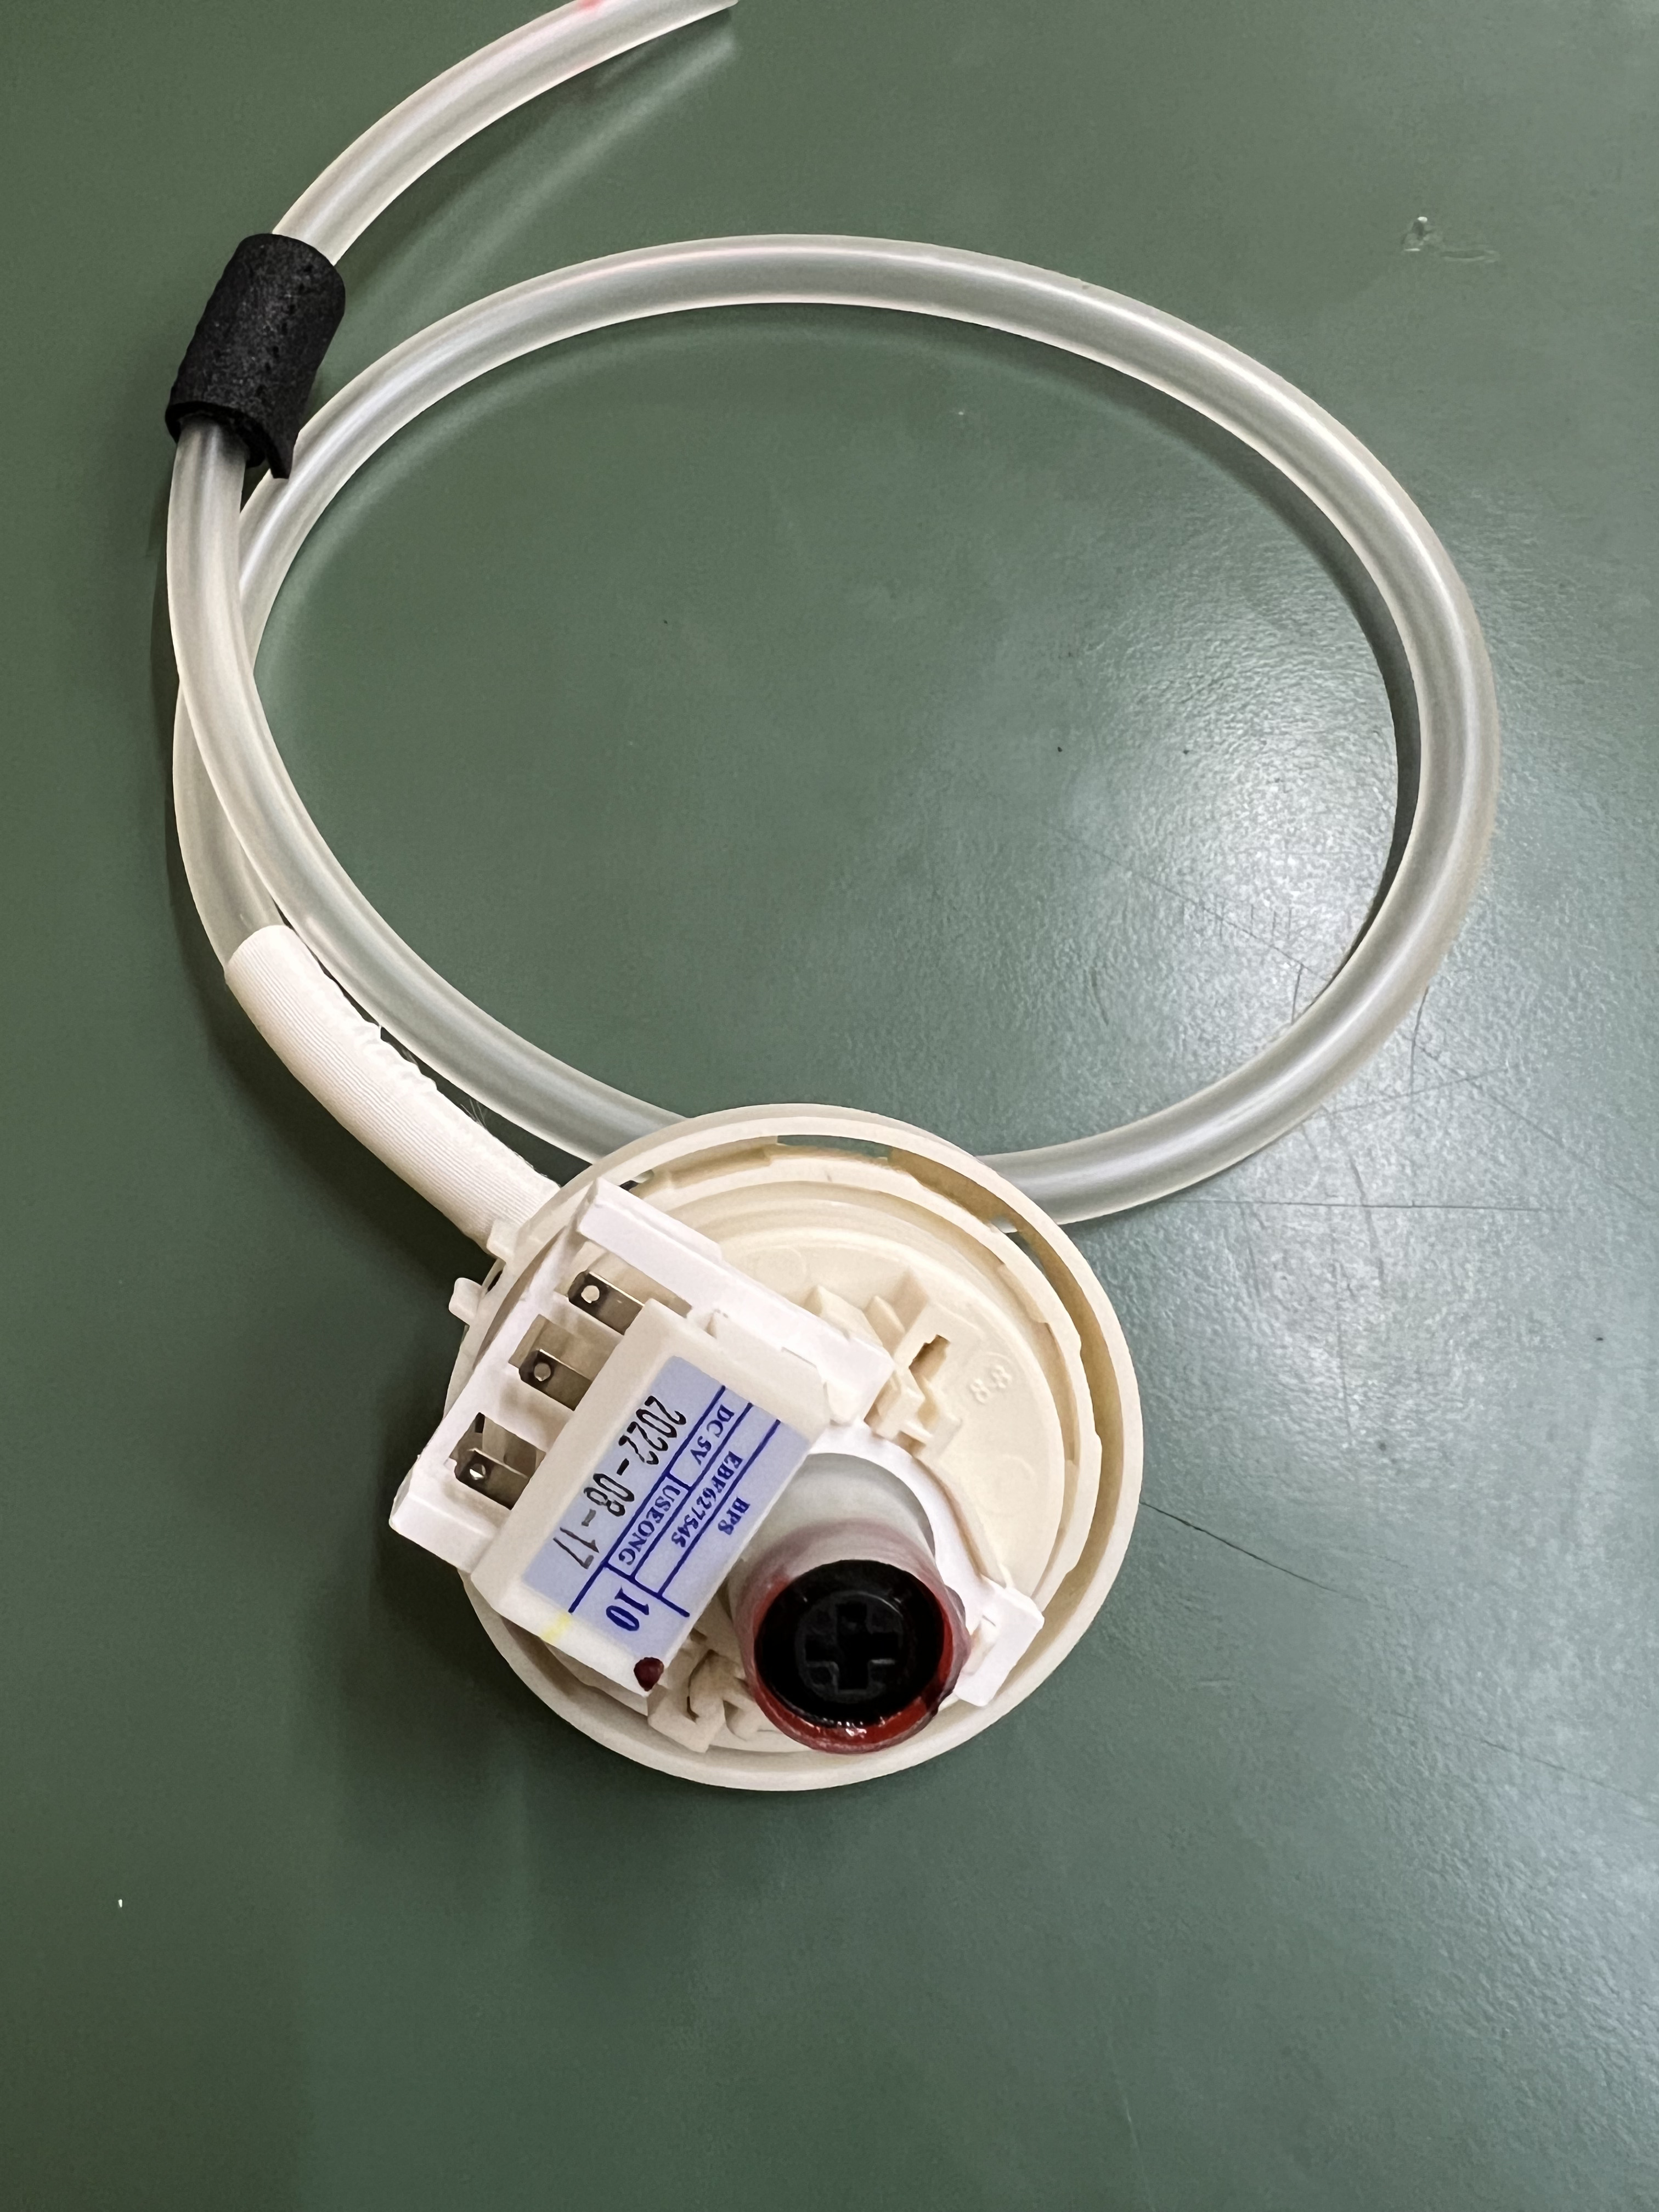pressure_sensor: (376, 1082, 1166, 1813)
